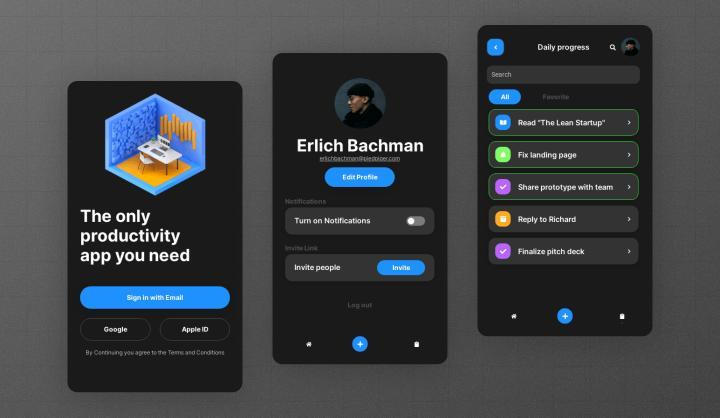button: (490, 109, 641, 138), (489, 141, 640, 169), (489, 238, 640, 266), (490, 206, 640, 234), (490, 174, 640, 201), (81, 287, 231, 310), (160, 318, 233, 343), (81, 318, 151, 342), (325, 167, 397, 189), (377, 260, 427, 276), (487, 87, 522, 108), (489, 39, 506, 57)
icon: (609, 43, 620, 55)
label: (283, 197, 328, 207), (283, 245, 320, 253), (347, 302, 375, 310)
switch: (407, 216, 428, 228)
